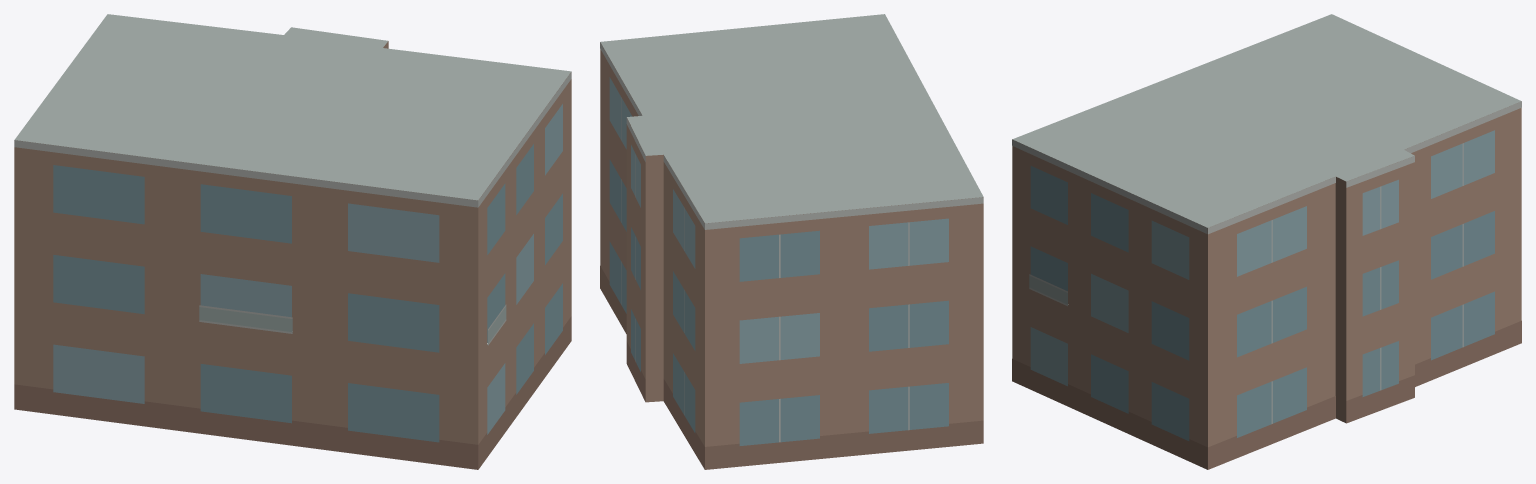
File: survey-upis-32718303.glb
The picture shows the model from 3 angles, left to right: view 1: azimuth 30°, elevation 25°; view 2: azimuth 150°, elevation 25°; view 3: azimuth 270°, elevation 25°; orthographic projection. The views are drawn at different scales.
Parts seen in each view (by area): view 1: survey-upis-32718303.tmp; view 2: survey-upis-32718303.tmp; view 3: survey-upis-32718303.tmp.
Boxes of the visible parts, bbox=[...] form: survey-upis-32718303.tmp: bbox=[14, 14, 571, 469]; survey-upis-32718303.tmp: bbox=[600, 14, 983, 469]; survey-upis-32718303.tmp: bbox=[1012, 14, 1521, 469].
Bounding box in the file's own units: 17.36 × 9.15 × 17.47.
